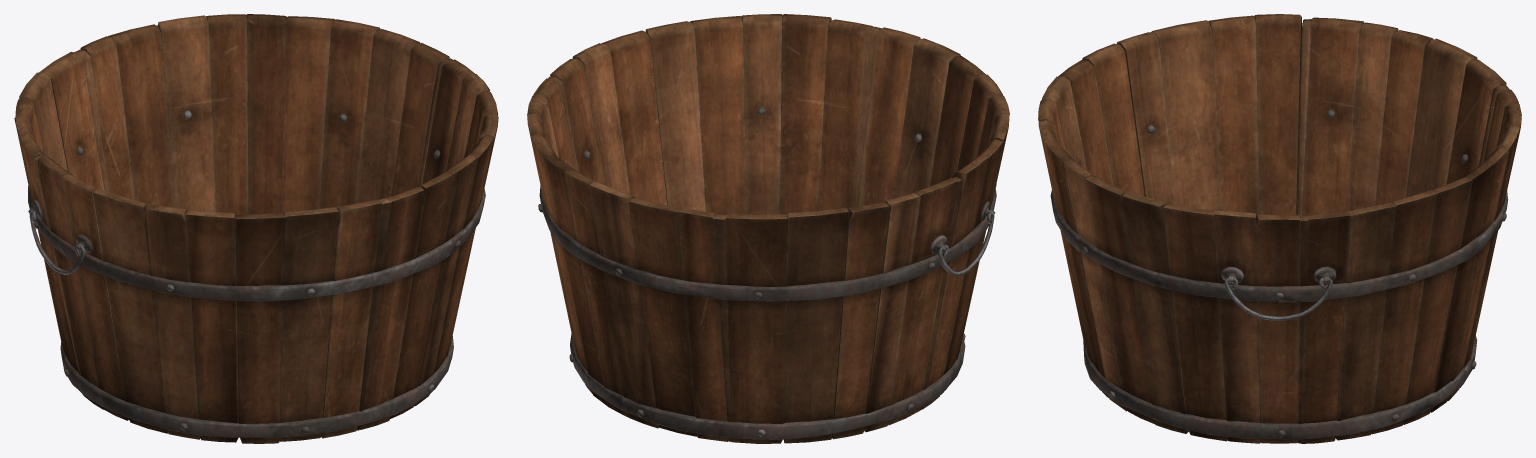
Rendered from bucket.glb.
3 views of the same model, side by side, from view 1: azimuth 30°, elevation 25°; view 2: azimuth 150°, elevation 25°; view 3: azimuth 270°, elevation 25° (orthographic).
Parts seen in each view (by area): view 1: bucket; view 2: bucket; view 3: bucket.
Boxes of the visible parts, <box> form: bucket: <box>14,14,498,443</box>; bucket: <box>527,14,1009,443</box>; bucket: <box>1038,14,1521,443</box>.
Bounding box in the file's own units: 0.6139 × 0.3508 × 0.6148.
Materials: 1 (1 with a texture image).
